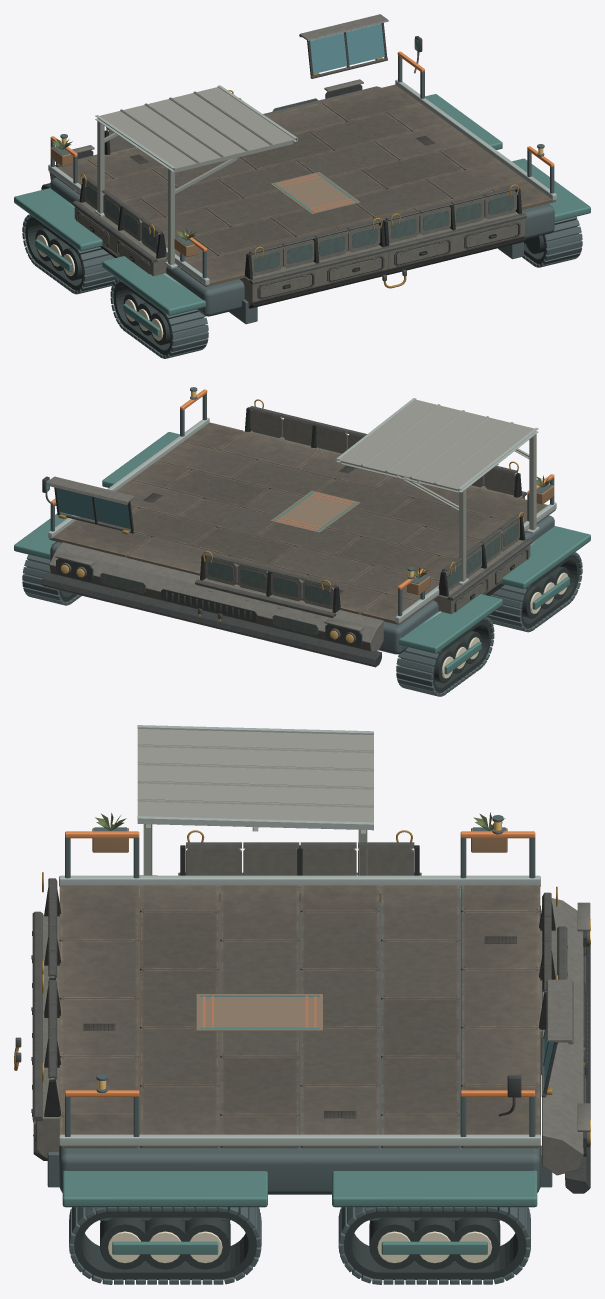
Rendered from NW5_Vehicle.fbx.
3 views of the same model, one above another, from view 1: azimuth 30°, elevation 25°; view 2: azimuth 150°, elevation 25°; view 3: azimuth 270°, elevation 25° (orthographic). The views are drawn at different scales.
Visible parts, largest first — view 1: NW5_DeckSurface_Mesh, NW5_CanopyRoof_NW5_CanopySheet, NW5_ShellPanel_0, NW5_ShellPanel_1, NW5_Vehicle_NW1_Teal, NW5_Vehicle_NW1_Frame, NW5_ShellPanel_2, NW5_CockpitShell_Mesh, Inclined windshield, NW5_CanopyFrame_NW5_CanopyFrame, NW5_Vehicle_NW1_Steel, NW5_Vehicle_NW1_RugCanvas (+6 smaller); view 2: NW5_DeckSurface_Mesh, NW5_CockpitShell_Mesh, NW5_CanopyRoof_NW5_CanopySheet, NW5_Vehicle_NW1_Teal, NW5_ShellPanel_3, NW5_ShellPanel_2, NW5_ShellPanel_1, NW5_Vehicle_NW1_Frame, NW5_CanopyFrame_NW5_CanopyFrame, NW5_Vehicle_NW1_RugCanvas, NW5_Vehicle_NW1_Steel, Inclined windshield (+5 smaller); view 3: NW5_DeckSurface_Mesh, NW5_CanopyRoof_NW5_CanopySheet, NW5_Vehicle_NW1_Frame, NW5_Vehicle_NW1_Teal, NW5_CockpitShell_Mesh, NW5_Vehicle_NW1_Steel, NW5_ShellPanel_2, TrackPod_1_1_NW1_Rubber, TrackPod_1_0_NW1_Rubber, NW5_ShellPanel_1, NW5_Vehicle_NW1_RugCanvas, NW5_CanopyFrame_NW1_Steel (+13 smaller).
Part boxes in pixels (box(x1,y1,x2,y2)): NW5_DeckSurface_Mesh: box(49, 84, 555, 286); NW5_CanopyRoof_NW5_CanopySheet: box(100, 87, 295, 169); NW5_ShellPanel_0: box(240, 218, 390, 308); NW5_ShellPanel_1: box(383, 184, 526, 275); NW5_Vehicle_NW1_Teal: box(14, 94, 590, 315); NW5_Vehicle_NW1_Frame: box(50, 55, 554, 324); NW5_ShellPanel_2: box(72, 174, 167, 276); NW5_CockpitShell_Mesh: box(41, 14, 422, 288); Inclined windshield: box(310, 23, 384, 73); NW5_CanopyFrame_NW5_CanopyFrame: box(97, 120, 293, 265); NW5_Vehicle_NW1_Steel: box(48, 79, 556, 285); NW5_Vehicle_NW1_RugCanvas: box(271, 172, 360, 214); NW5_DeckSurface_Mesh: box(49, 422, 555, 624); NW5_CockpitShell_Mesh: box(41, 476, 383, 667); NW5_CanopyRoof_NW5_CanopySheet: box(338, 399, 534, 489); NW5_Vehicle_NW1_Teal: box(14, 432, 590, 653); NW5_ShellPanel_3: box(195, 551, 340, 618); NW5_ShellPanel_2: box(433, 512, 532, 614); NW5_ShellPanel_1: box(245, 399, 366, 454); NW5_Vehicle_NW1_Frame: box(50, 393, 554, 654); NW5_CanopyFrame_NW5_CanopyFrame: box(341, 434, 536, 581); NW5_Vehicle_NW1_RugCanvas: box(271, 490, 360, 532); NW5_Vehicle_NW1_Steel: box(48, 417, 556, 623); Inclined windshield: box(57, 488, 130, 529); NW5_DeckSurface_Mesh: box(59, 885, 540, 1148); NW5_CanopyRoof_NW5_CanopySheet: box(137, 729, 373, 822); NW5_Vehicle_NW1_Frame: box(47, 827, 552, 1220); NW5_Vehicle_NW1_Teal: box(62, 887, 537, 1207); NW5_CockpitShell_Mesh: box(14, 896, 590, 1193); NW5_Vehicle_NW1_Steel: box(59, 875, 540, 1146); NW5_ShellPanel_2: box(178, 830, 421, 901); TrackPod_1_1_NW1_Rubber: box(343, 1207, 525, 1279); TrackPod_1_0_NW1_Rubber: box(74, 1207, 256, 1279); NW5_ShellPanel_1: box(31, 974, 60, 1160); NW5_Vehicle_NW1_RugCanvas: box(196, 994, 322, 1030); NW5_CanopyFrame_NW1_Steel: box(137, 725, 373, 875).
Bounding box in the file's own units: 13.01 × 5.21 × 10.06.
